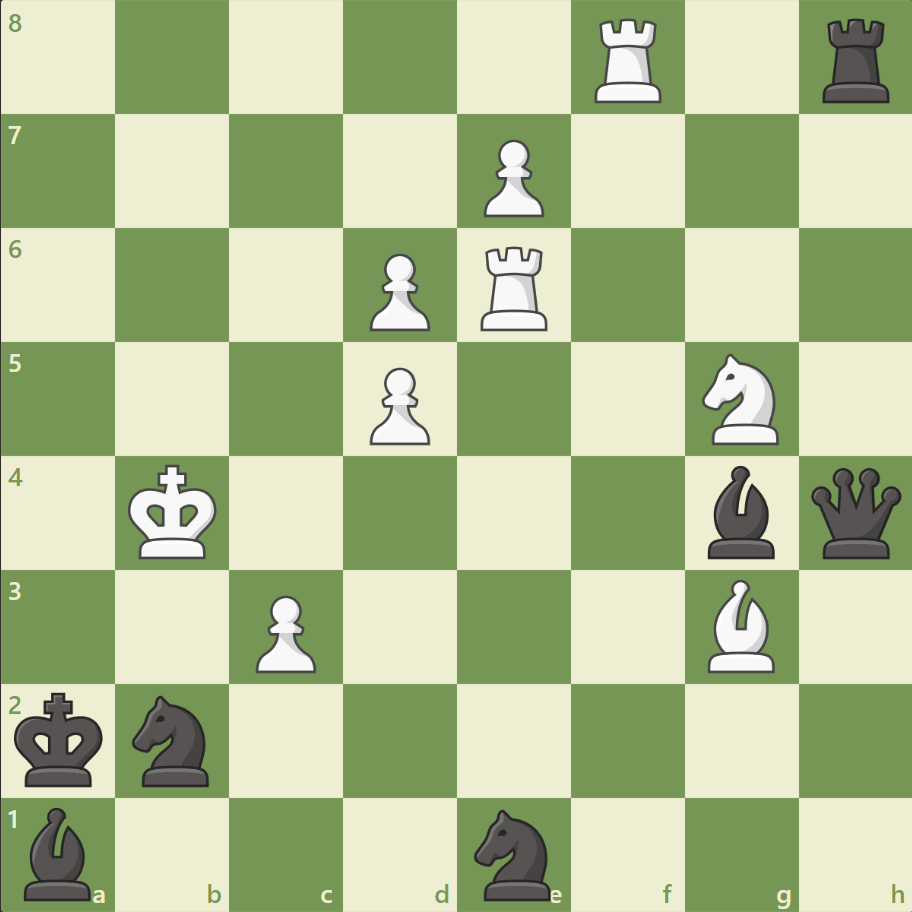B: (698, 574, 782, 676)
K: (124, 458, 224, 566)
N: (692, 348, 789, 450)
P: (474, 132, 549, 223), (247, 586, 322, 677), (361, 246, 435, 337), (361, 359, 435, 450)
R: (587, 12, 670, 109), (473, 239, 556, 336)
b: (698, 460, 782, 563), (17, 801, 101, 904)
k: (11, 685, 111, 793)
n: (124, 688, 222, 791), (465, 802, 562, 904)
q: (805, 463, 904, 562)
r: (814, 12, 897, 109)
